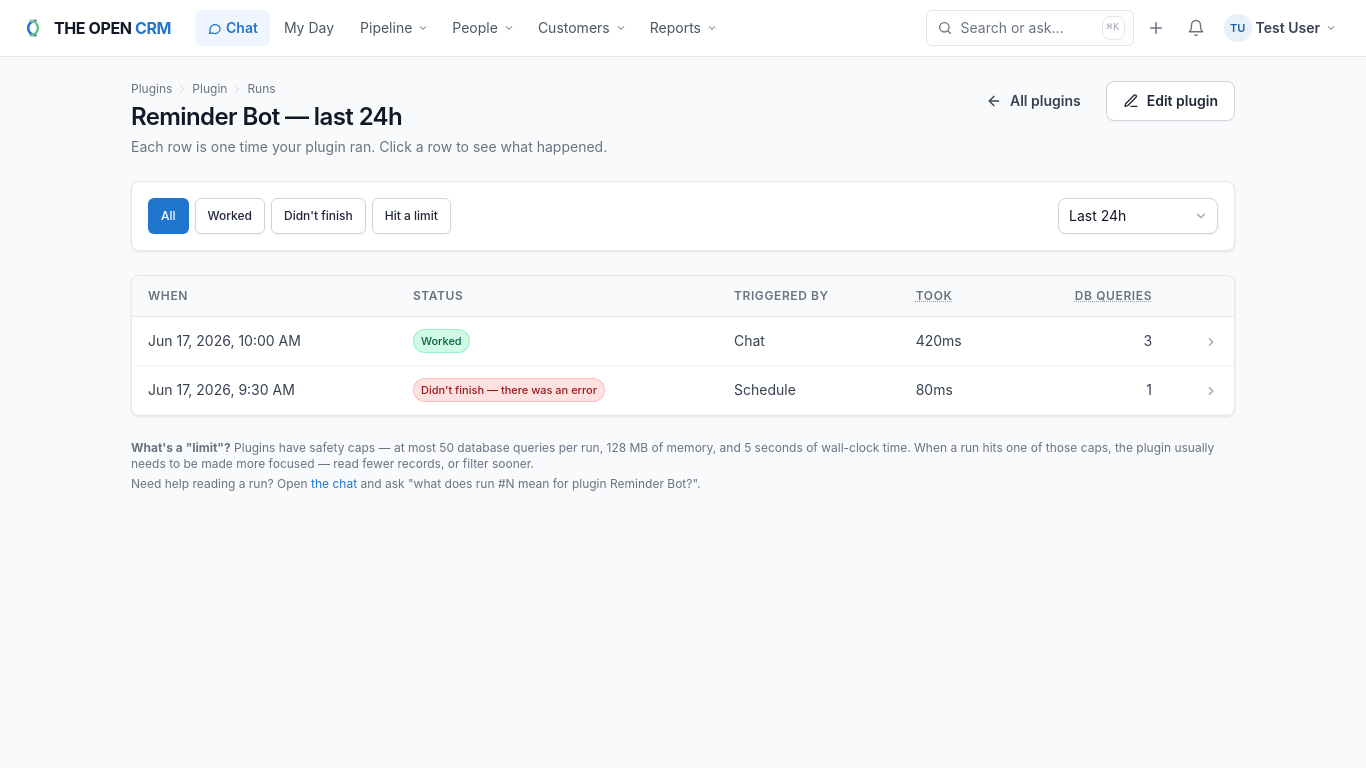
Test: PluginRuns › renders the "no log lines" fallback for the failed row when expanded
The width and height of the screenshot is (1366, 768).
Expected: the table is shown, [132,276,1234,415]
Expected: the text "Didn't finish — there was an error" is shown, [413,378,605,402]
Click the text "Didn't finish".
click(683, 390)  # box [132,366,1234,414]
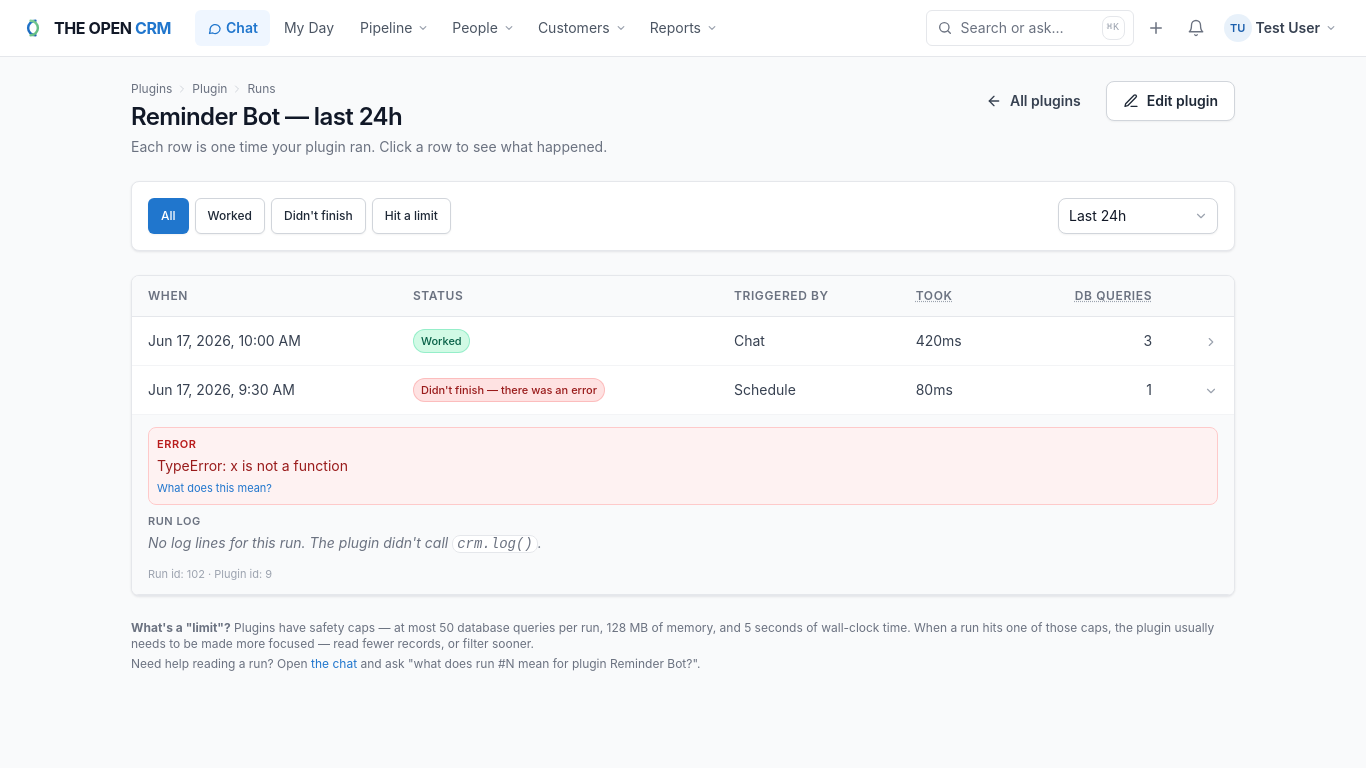
Expected: the text "No log lines for this run. The plugin didn't call crm.log()." is shown, [148,534,542,553]
Expected: the text "TypeError: x is not a function" is shown, [157,457,348,474]
